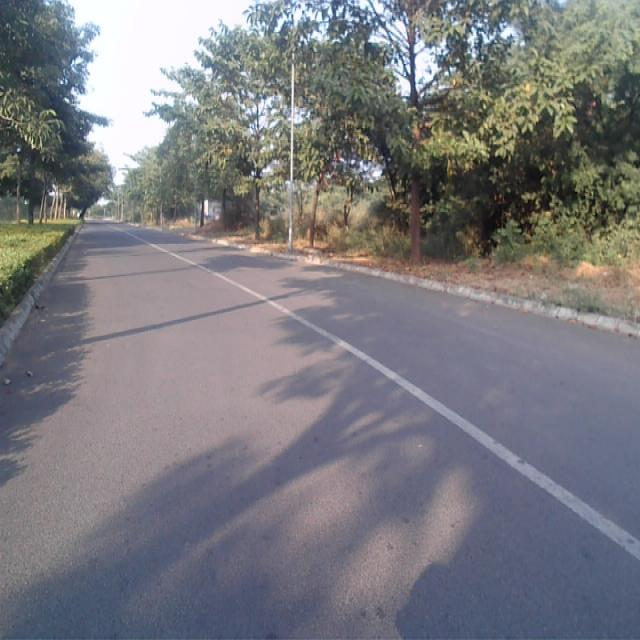lane: (0, 228, 640, 640)
